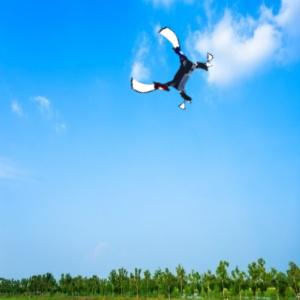drone: (135, 35, 210, 110)
